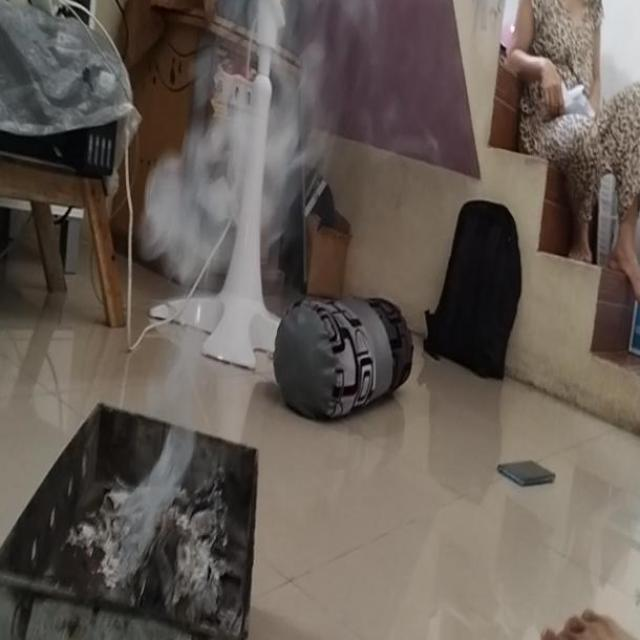fire: (142, 94, 314, 274), (135, 420, 208, 537)
